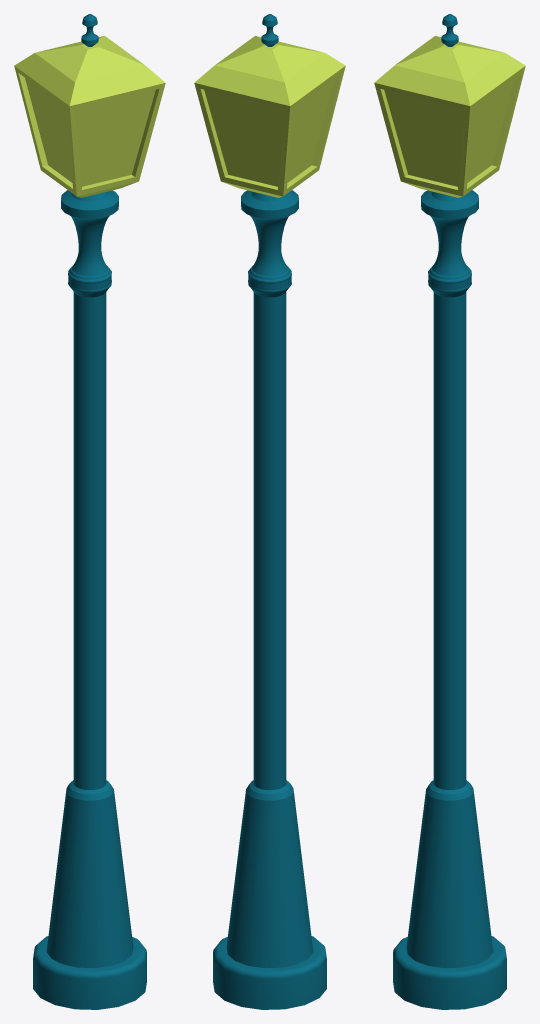
The model's file is lamp.obj.
The picture shows the model from 3 angles, left to right: view 1: azimuth 30°, elevation 25°; view 2: azimuth 150°, elevation 25°; view 3: azimuth 330°, elevation 25°; orthographic projection.
Parts seen in each view (by area): view 1: post, cage; view 2: post, cage; view 3: post, cage.
Boxes of the visible parts, x1,y1,x2,y2 form: post: (33, 14, 146, 1009); cage: (14, 36, 165, 197); post: (213, 14, 326, 1009); cage: (194, 36, 345, 197); post: (393, 14, 506, 1009); cage: (374, 36, 525, 197).
Size of the model in its own units: 15 by 140 by 15.
